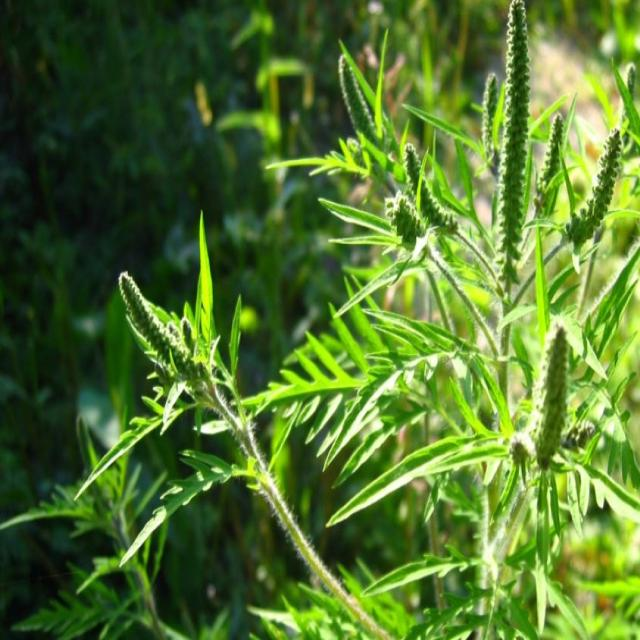ambrosia: (413, 16, 582, 361), (92, 232, 230, 460), (316, 58, 447, 282), (486, 270, 621, 469)
